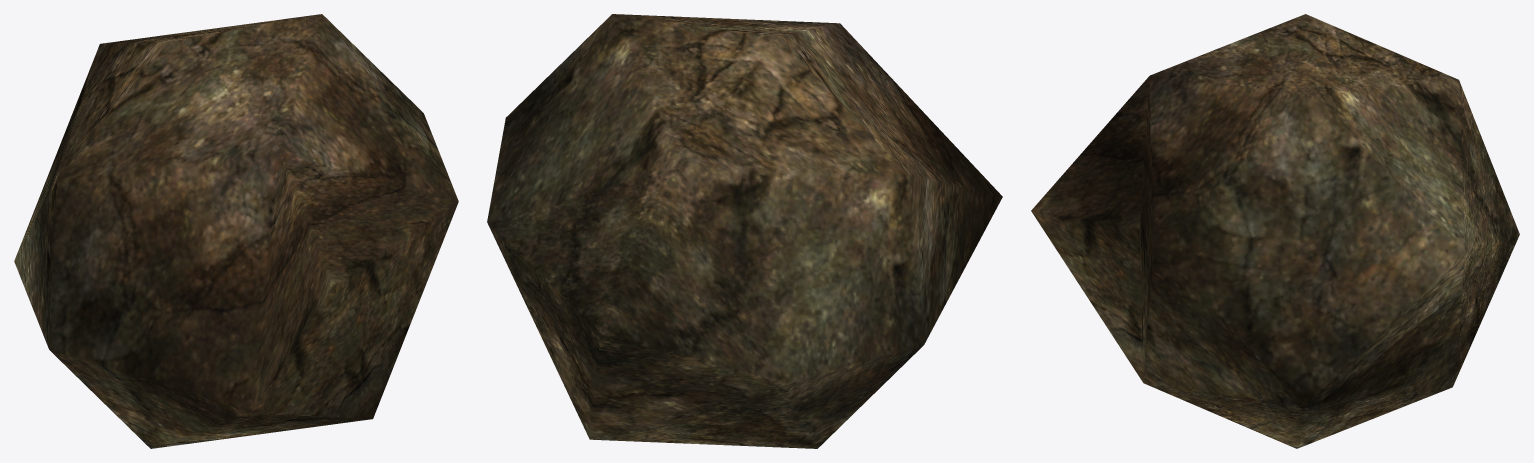
The model's file is stone_08.obj.
The picture shows the model from 3 angles, left to right: view 1: azimuth 30°, elevation 25°; view 2: azimuth 150°, elevation 25°; view 3: azimuth 270°, elevation 25°; orthographic projection. The views are drawn at different scales.
Visible parts, largest first — view 1: (null); view 2: (null); view 3: (null).
Boxes of the visible parts, x1,y1,x2,y2 form: (null): [14, 14, 458, 448]; (null): [487, 14, 1002, 448]; (null): [1031, 14, 1519, 448].
Size of the model in its own units: 2.05 by 2.05 by 2.41.
